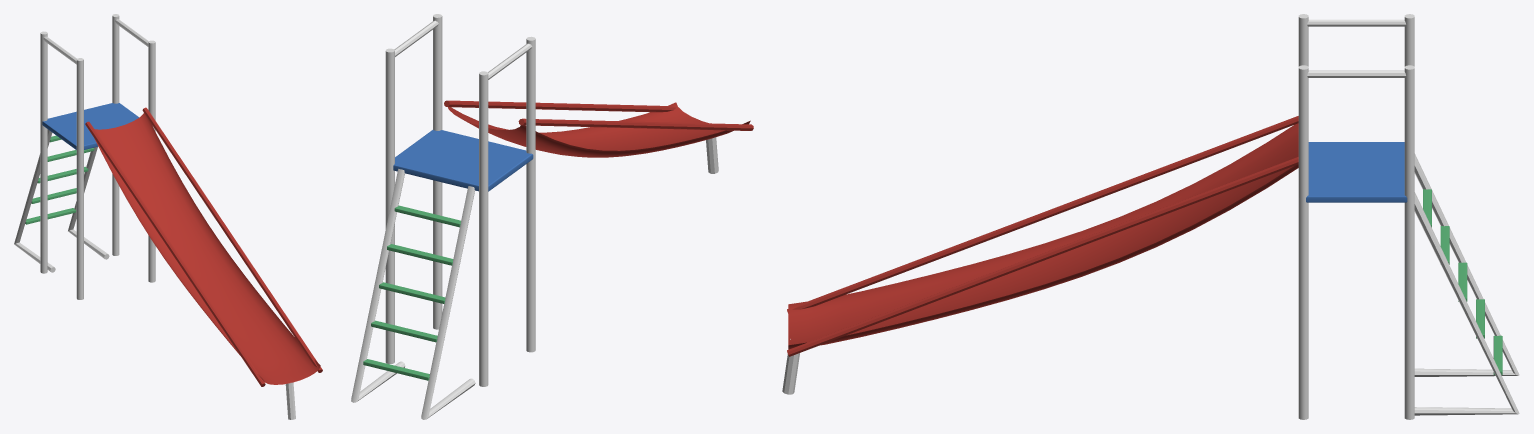
File: SM_Slide.fbx
3 renders of one model, left to right at view 1: azimuth 30°, elevation 25°; view 2: azimuth 150°, elevation 25°; view 3: azimuth 270°, elevation 25°, orthographic. The views are drawn at different scales.
Visible parts, largest first — view 1: SM_Slide_1; view 2: SM_Slide_1; view 3: SM_Slide_1.
Boxes of the visible parts, <box> form: SM_Slide_1: <box>14,14,322,419</box>; SM_Slide_1: <box>351,14,753,419</box>; SM_Slide_1: <box>782,14,1519,419</box>.
Size of the model in its own units: 87 by 258 by 486.
